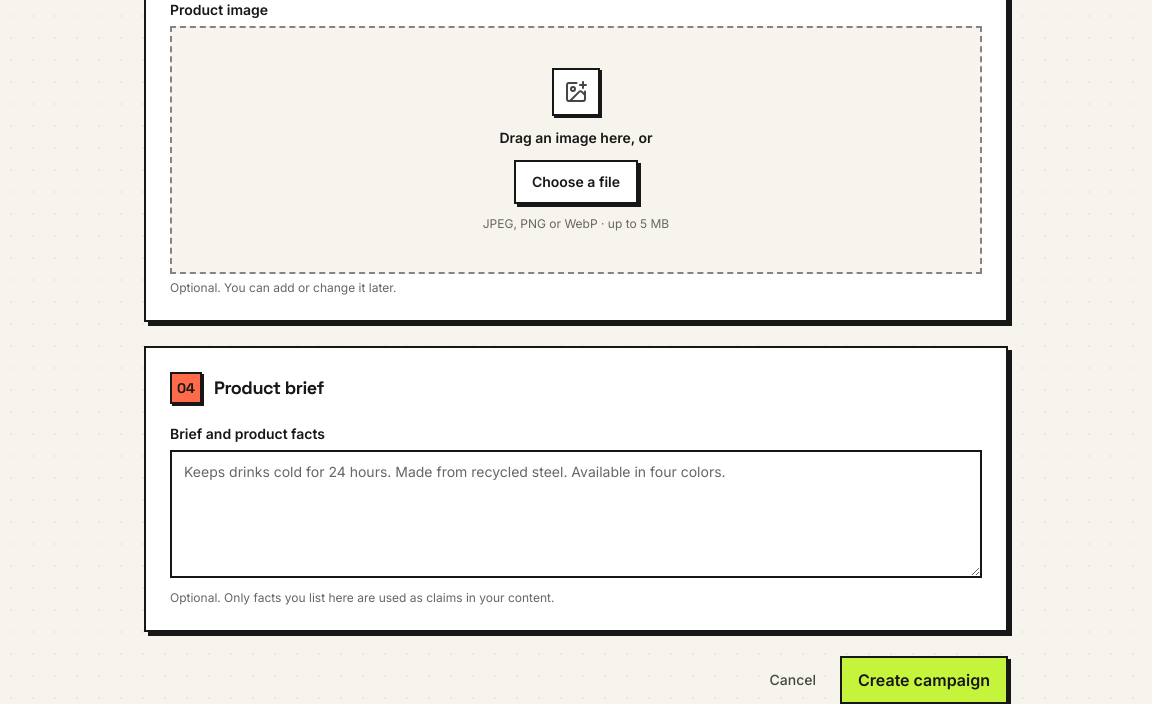
it: CreateCampaignPage › blocks submission and shows field errors when required fields are empty
(page scrolled)
Click the button "Create campaign" at [924, 680], box x1=840 y1=656 x2=1008 y2=703
(page scrolled)
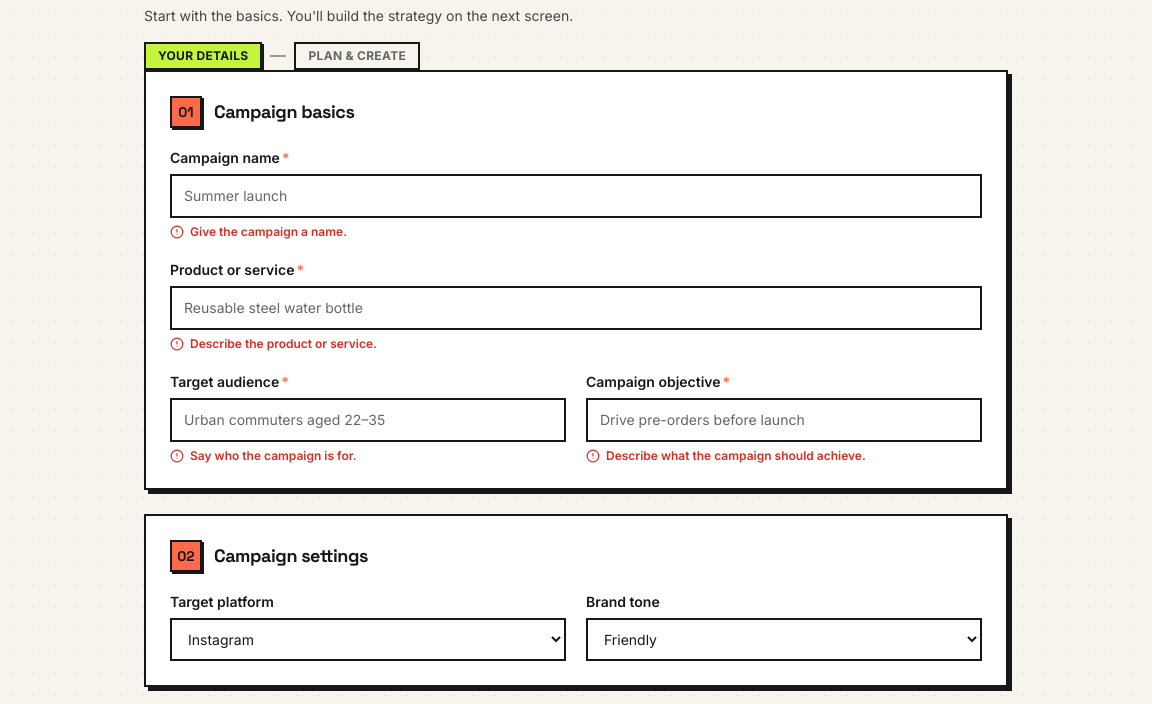
Expected: the text "Give the campaign a name." is shown, x1=170 y1=224 x2=347 y2=239
Expected: the text "Describe the product or service." is shown, x1=170 y1=336 x2=377 y2=351
